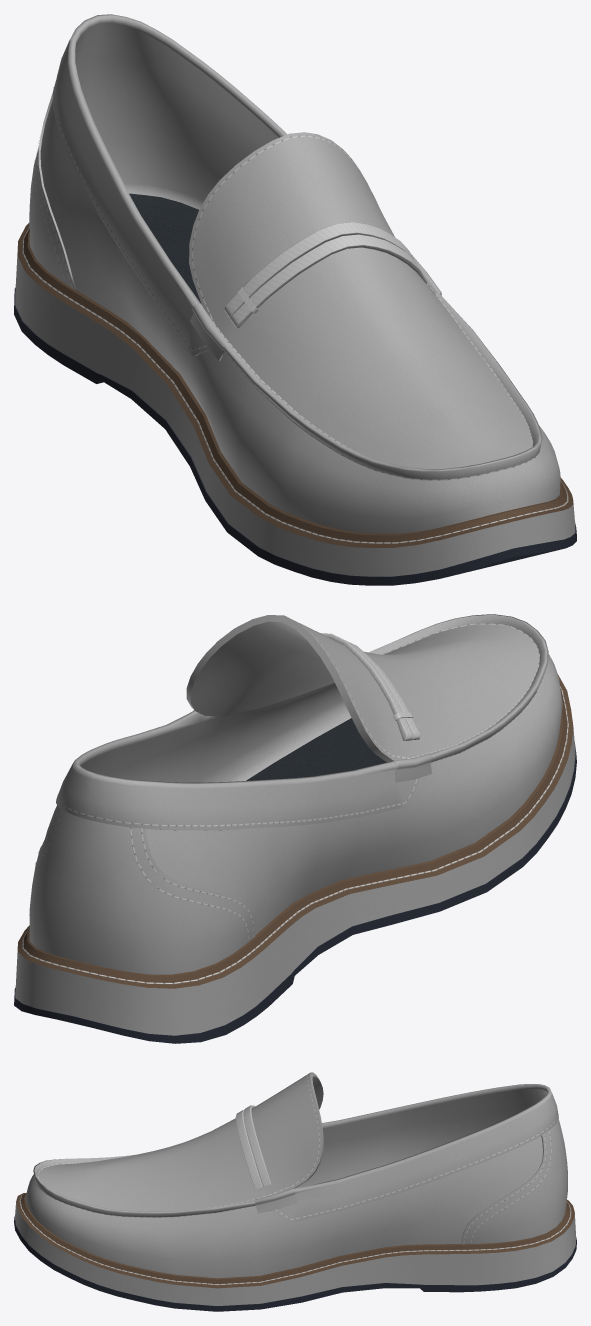
File: Mocasin_Izq.glb
The picture shows the model from 3 angles, top to bottom: view 1: azimuth 30°, elevation 25°; view 2: azimuth 150°, elevation 25°; view 3: azimuth 270°, elevation 25°; orthographic projection. The views are drawn at different scales.
Visible parts, largest first — view 1: mocasin_Modeling_v0003:Cuero_GEO.001, mocasin_Modeling_v0003:Suela_2_GEO.001, mocasin_Modeling_v0003:Suela_3_GEO.001, mocasin_Modeling_v0003:Suela_1_GEO.001, mocasin_Modeling_v0003:Tela_GEO.001, mocasin_Modeling_v0003:Stitches_GEO.001, mocasin_Modeling_v0003:Plantilla_GEO.001; view 2: mocasin_Modeling_v0003:Cuero_GEO.001, mocasin_Modeling_v0003:Suela_2_GEO.001, mocasin_Modeling_v0003:Suela_3_GEO.001, mocasin_Modeling_v0003:Suela_1_GEO.001, mocasin_Modeling_v0003:Stitches_GEO.001, mocasin_Modeling_v0003:Plantilla_GEO.001, mocasin_Modeling_v0003:Tela_GEO.001; view 3: mocasin_Modeling_v0003:Cuero_GEO.001, mocasin_Modeling_v0003:Suela_2_GEO.001, mocasin_Modeling_v0003:Suela_3_GEO.001, mocasin_Modeling_v0003:Suela_1_GEO.001, mocasin_Modeling_v0003:Stitches_GEO.001, mocasin_Modeling_v0003:Tela_GEO.001.
Boxes of the visible parts, bbox=[...] form: mocasin_Modeling_v0003:Cuero_GEO.001: bbox=[29, 14, 560, 533]; mocasin_Modeling_v0003:Suela_2_GEO.001: bbox=[15, 246, 575, 576]; mocasin_Modeling_v0003:Suela_3_GEO.001: bbox=[17, 223, 573, 547]; mocasin_Modeling_v0003:Suela_1_GEO.001: bbox=[14, 287, 576, 585]; mocasin_Modeling_v0003:Tela_GEO.001: bbox=[224, 222, 427, 327]; mocasin_Modeling_v0003:Stitches_GEO.001: bbox=[22, 75, 568, 543]; mocasin_Modeling_v0003:Plantilla_GEO.001: bbox=[129, 193, 201, 304]; mocasin_Modeling_v0003:Cuero_GEO.001: bbox=[29, 614, 562, 974]; mocasin_Modeling_v0003:Suela_2_GEO.001: bbox=[15, 727, 575, 1035]; mocasin_Modeling_v0003:Suela_3_GEO.001: bbox=[17, 675, 573, 988]; mocasin_Modeling_v0003:Suela_1_GEO.001: bbox=[14, 742, 576, 1043]; mocasin_Modeling_v0003:Stitches_GEO.001: bbox=[22, 623, 568, 984]; mocasin_Modeling_v0003:Plantilla_GEO.001: bbox=[246, 718, 386, 780]; mocasin_Modeling_v0003:Tela_GEO.001: bbox=[320, 633, 420, 741]; mocasin_Modeling_v0003:Cuero_GEO.001: bbox=[25, 1072, 567, 1278]; mocasin_Modeling_v0003:Suela_2_GEO.001: bbox=[15, 1201, 576, 1305]; mocasin_Modeling_v0003:Suela_3_GEO.001: bbox=[16, 1193, 574, 1288]; mocasin_Modeling_v0003:Suela_1_GEO.001: bbox=[14, 1216, 576, 1311]; mocasin_Modeling_v0003:Stitches_GEO.001: bbox=[19, 1073, 571, 1284]; mocasin_Modeling_v0003:Tela_GEO.001: bbox=[235, 1105, 271, 1190].
Size of the model in its own units: 0.1466 by 0.1511 by 0.4008.
Materials: 7 (7 with a texture image).
